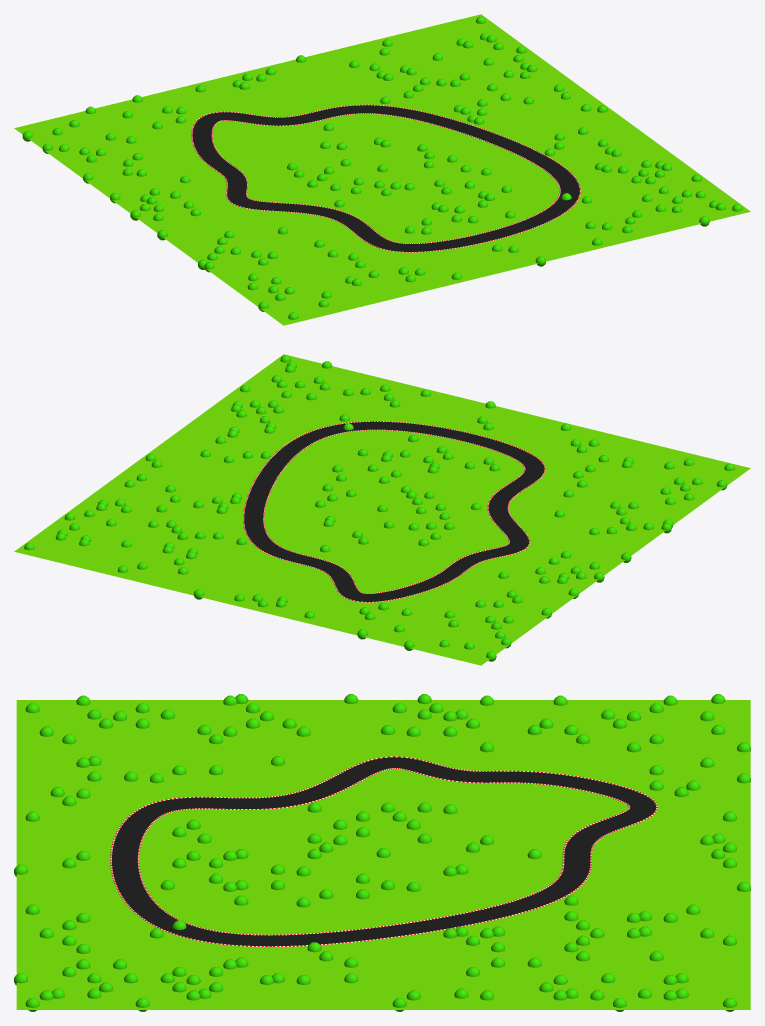
File: Test Race Track.fbx
3 renders of one model, top to bottom at view 1: azimuth 30°, elevation 25°; view 2: azimuth 150°, elevation 25°; view 3: azimuth 270°, elevation 25°, orthographic. The views are drawn at different scales.
Visible parts, largest first — view 1: Plane.002, Plane.001; view 2: Plane.002, Plane.001; view 3: Plane.002, Plane.001.
Boxes of the visible parts, x1,y1,x2,y2 form: Plane.002: (14, 14, 750, 325); Plane.001: (191, 104, 580, 252); Plane.002: (14, 354, 750, 665); Plane.001: (243, 421, 545, 602); Plane.002: (16, 700, 750, 1009); Plane.001: (110, 756, 657, 946).
Bounding box in the file's own units: 20102 × 400 × 20060.
